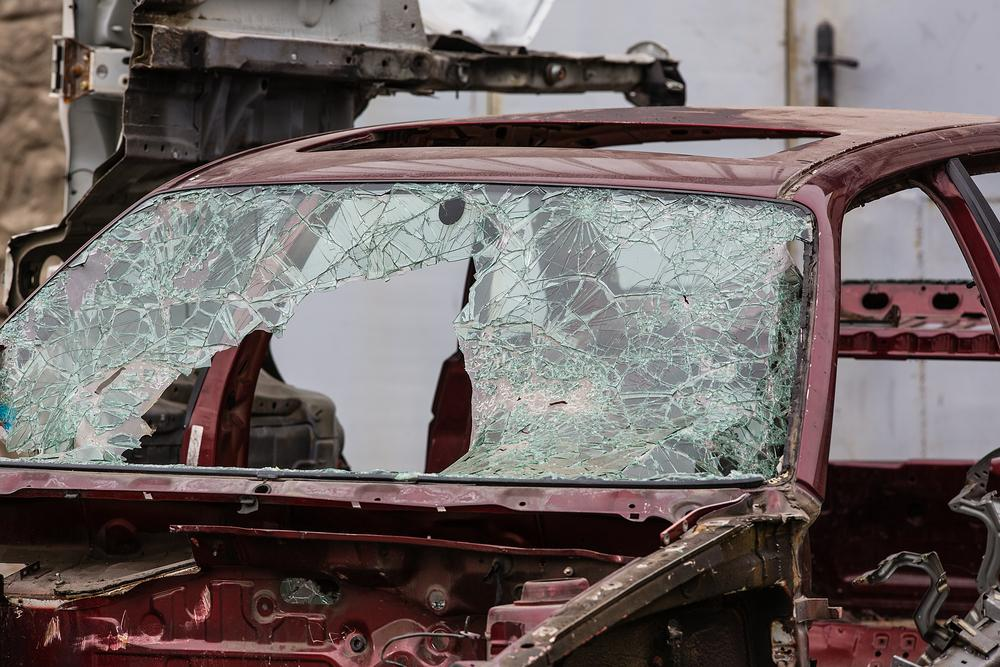glass shatter: (0, 184, 816, 480)
